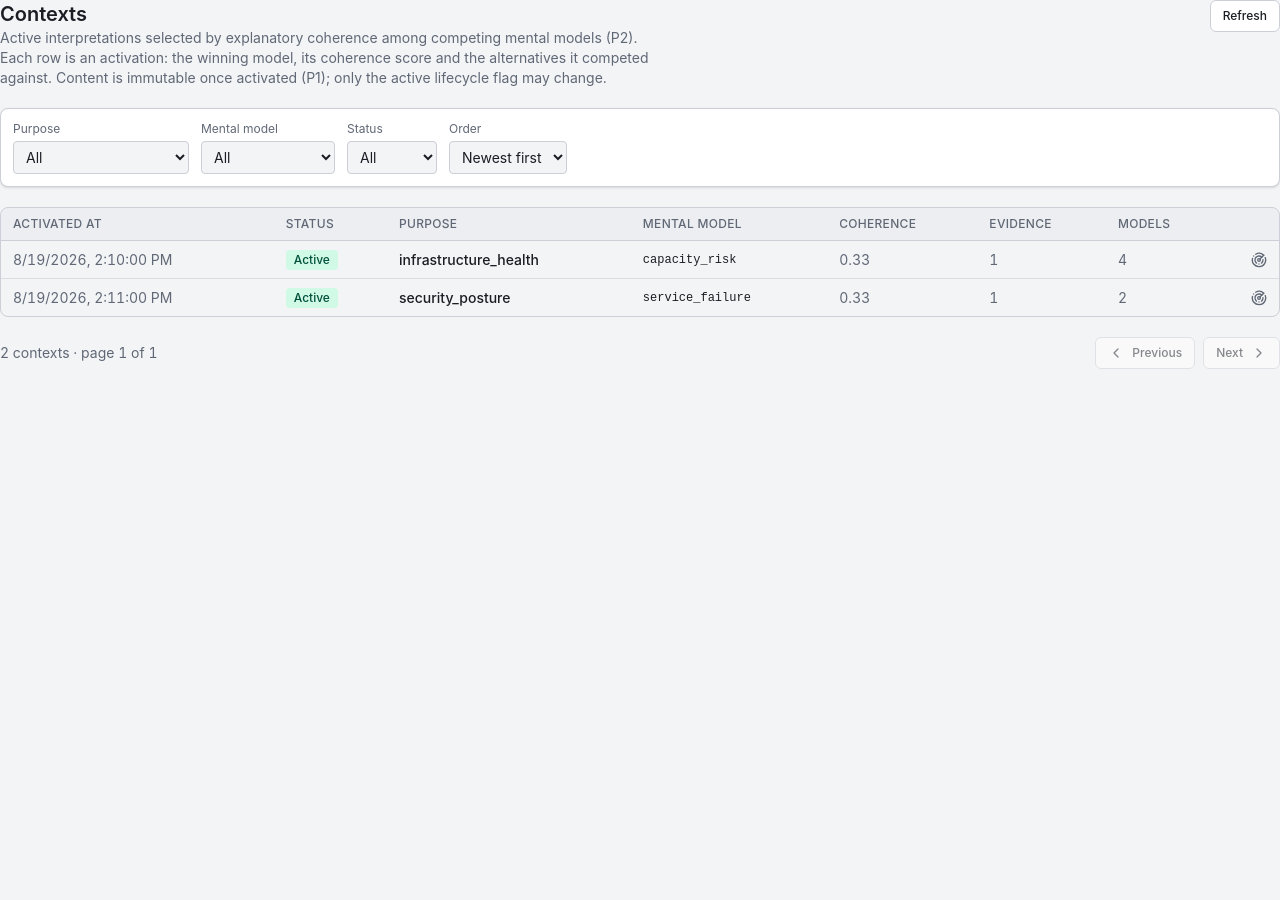
Test case: ContextsPage › opens the detail drawer with competing models and evidence desglose
This screenshot has width=1280, height=900.
Click the text "capacity_risk" at coordinates (729, 260), box [631,240,827,278]
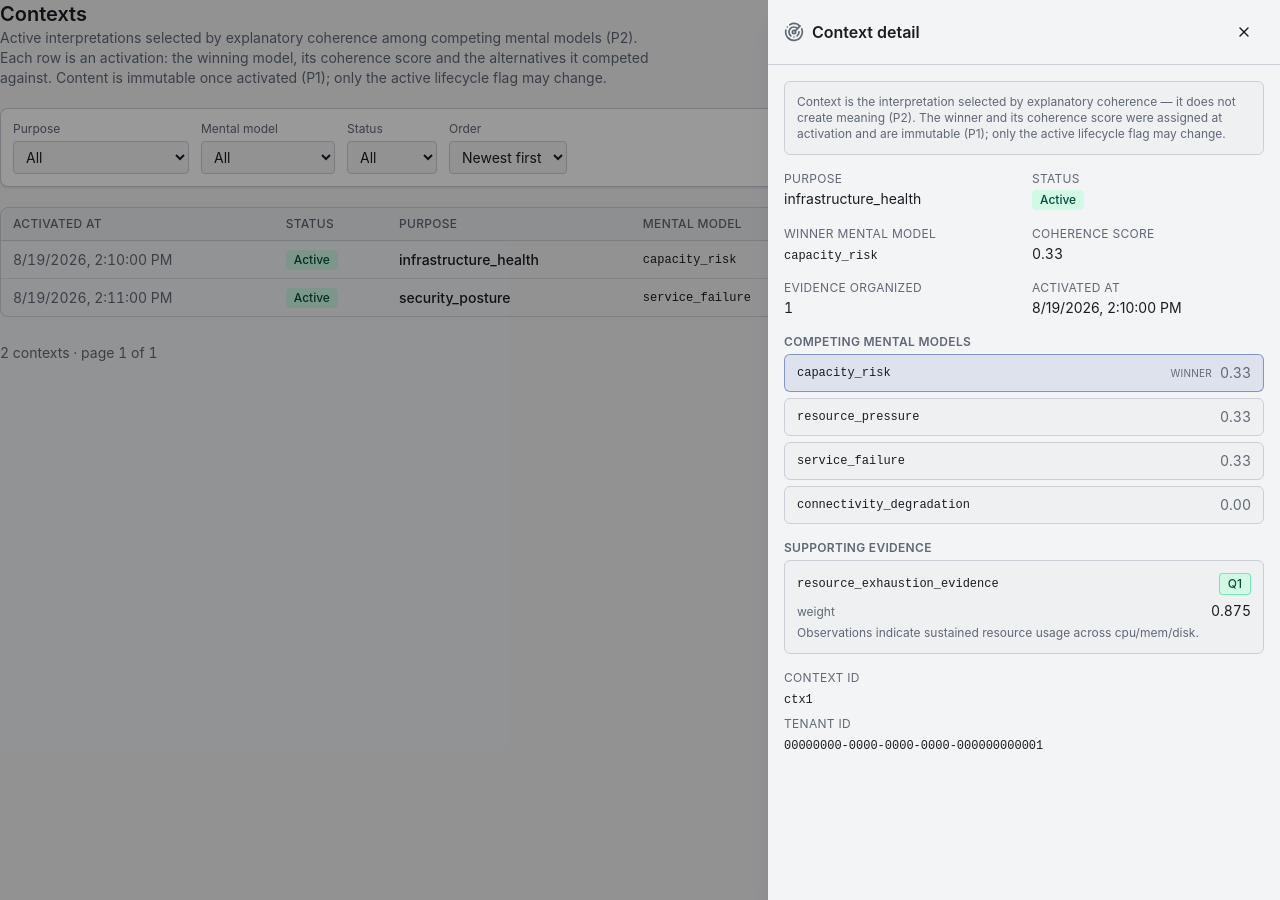
expect the heading "Competing mental models" is shown: met, box [784,334,971,349]
expect the text "resource_pressure" is shown: met, box [797,409,919,425]
expect the text "winner" is shown: met, box [1170,366,1212,380]
